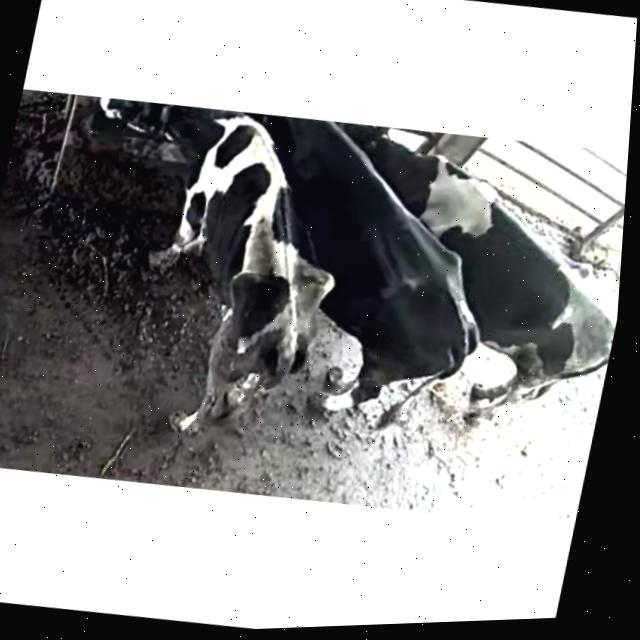drink: (204, 104, 340, 172)
